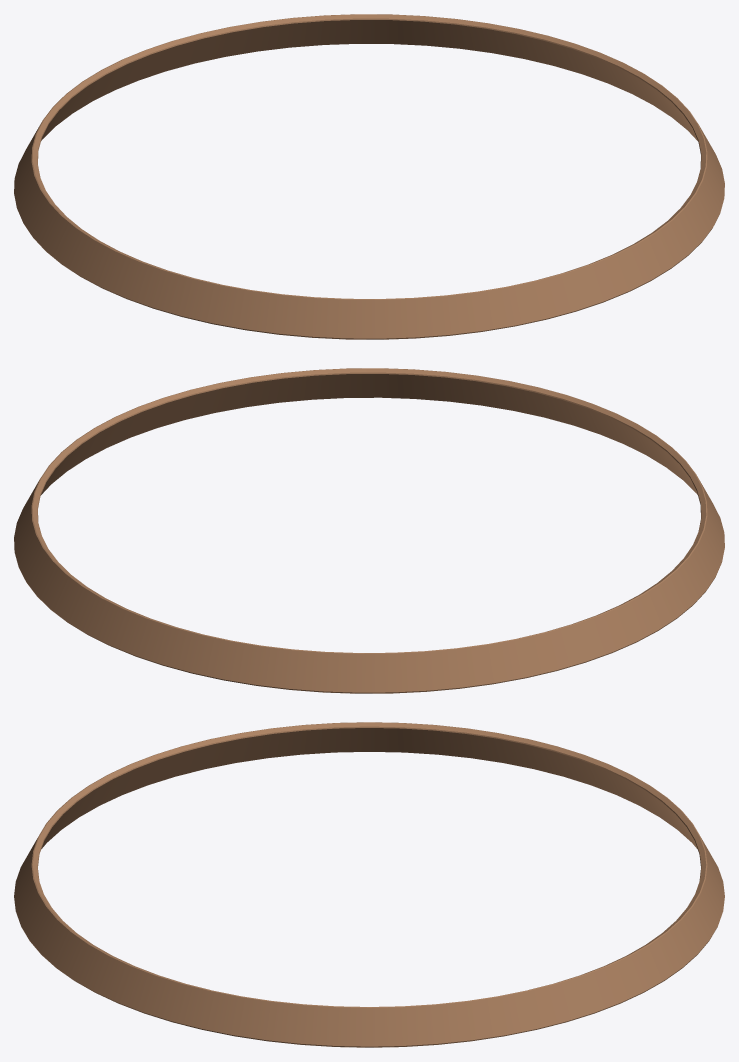
Rendered from SM_TongQuan1.fbx.
3 renders of one model, top to bottom at view 1: azimuth 30°, elevation 25°; view 2: azimuth 150°, elevation 25°; view 3: azimuth 270°, elevation 25°, orthographic.
Visible parts, largest first — view 1: SM_tongquan2; view 2: SM_tongquan2; view 3: SM_tongquan2.
Boxes of the visible parts, bbox=[...] form: SM_tongquan2: bbox=[14, 14, 724, 339]; SM_tongquan2: bbox=[14, 368, 724, 693]; SM_tongquan2: bbox=[14, 722, 724, 1047].
Bounding box in the file's own units: 2.69 × 0.146 × 2.69.
